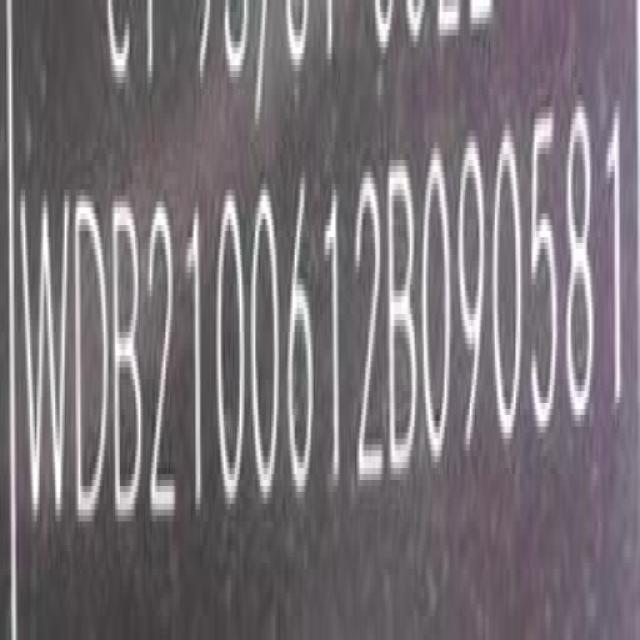0: (214, 191, 247, 518), (492, 120, 524, 453), (421, 149, 453, 476), (252, 187, 282, 513)
1: (188, 196, 210, 532), (606, 92, 626, 431), (326, 173, 344, 507)
2: (146, 197, 180, 536), (354, 169, 385, 497)
5: (527, 107, 559, 444)
6: (288, 177, 318, 508)
8: (565, 98, 595, 434)
9: (454, 133, 486, 471)
B: (113, 194, 146, 536), (389, 156, 421, 489)
D: (77, 190, 113, 534)
W: (20, 185, 70, 539)
